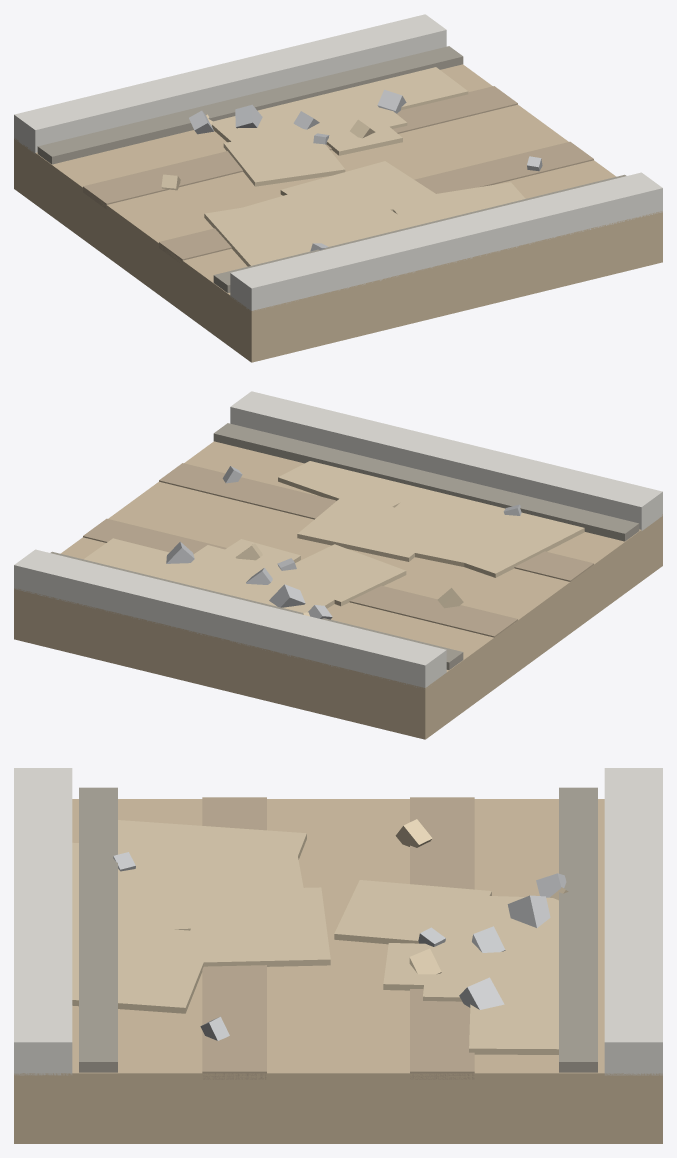
File: ROAD_DIRT.glb
The picture shows the model from 3 angles, top to bottom: view 1: azimuth 30°, elevation 25°; view 2: azimuth 150°, elevation 25°; view 3: azimuth 270°, elevation 25°; orthographic projection. The views are drawn at different scales.
Visible parts, largest first — view 1: ROAD_DIRT; view 2: ROAD_DIRT; view 3: ROAD_DIRT.
Boxes of the visible parts, x1,y1,x2,y2 form: ROAD_DIRT: [14, 14, 662, 362]; ROAD_DIRT: [14, 391, 662, 739]; ROAD_DIRT: [14, 768, 662, 1143].
Size of the model in its own units: 1 by 0.1725 by 1.
